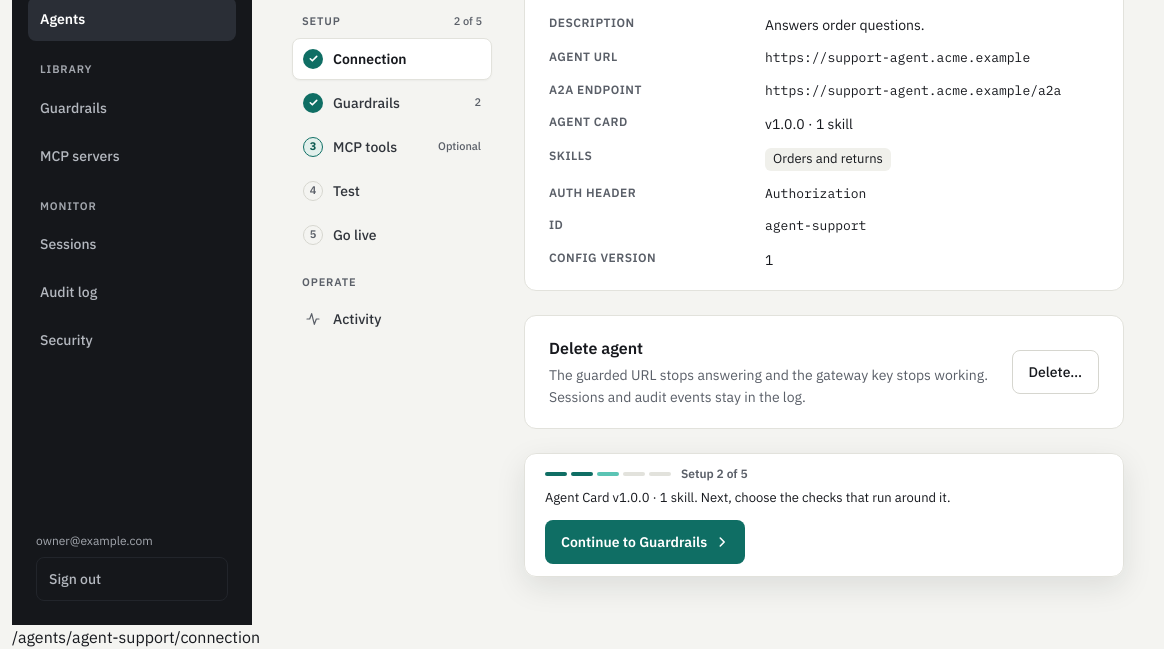
Test: Delete agent › says deleting is not available yet on a 405
(page scrolled)
Step 1. Click the button "Delete…" → (1055, 372), box [1012,350,1099,394]
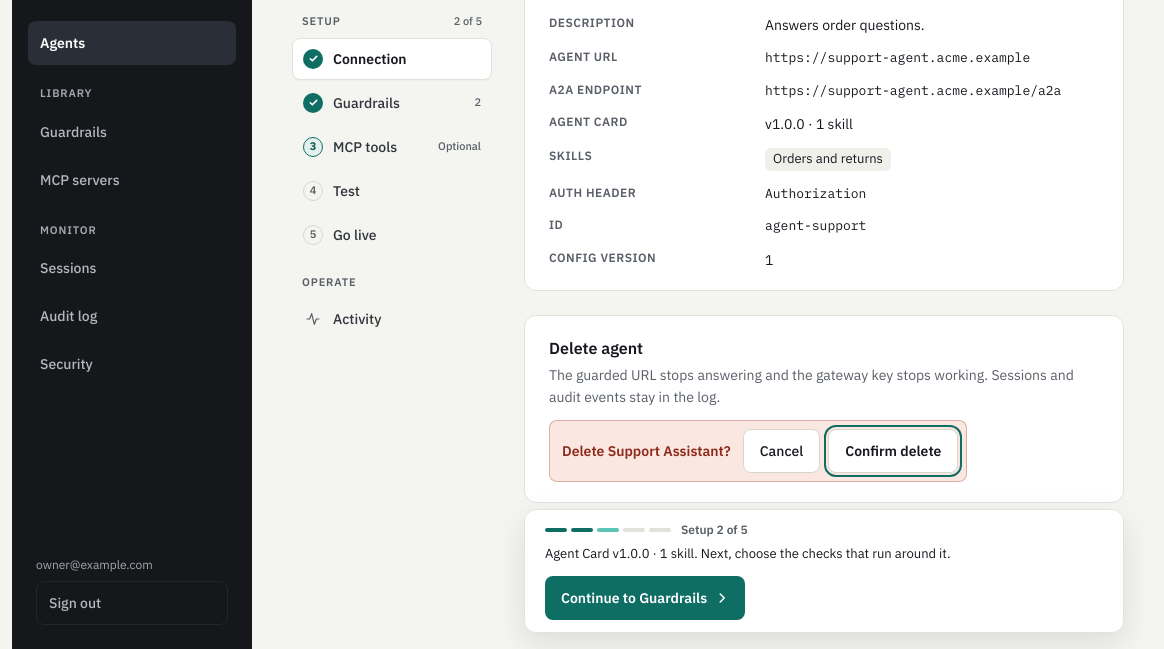
Step 2. Click the button "Confirm delete" → (893, 451), box [828,429,958,473]
(page scrolled)
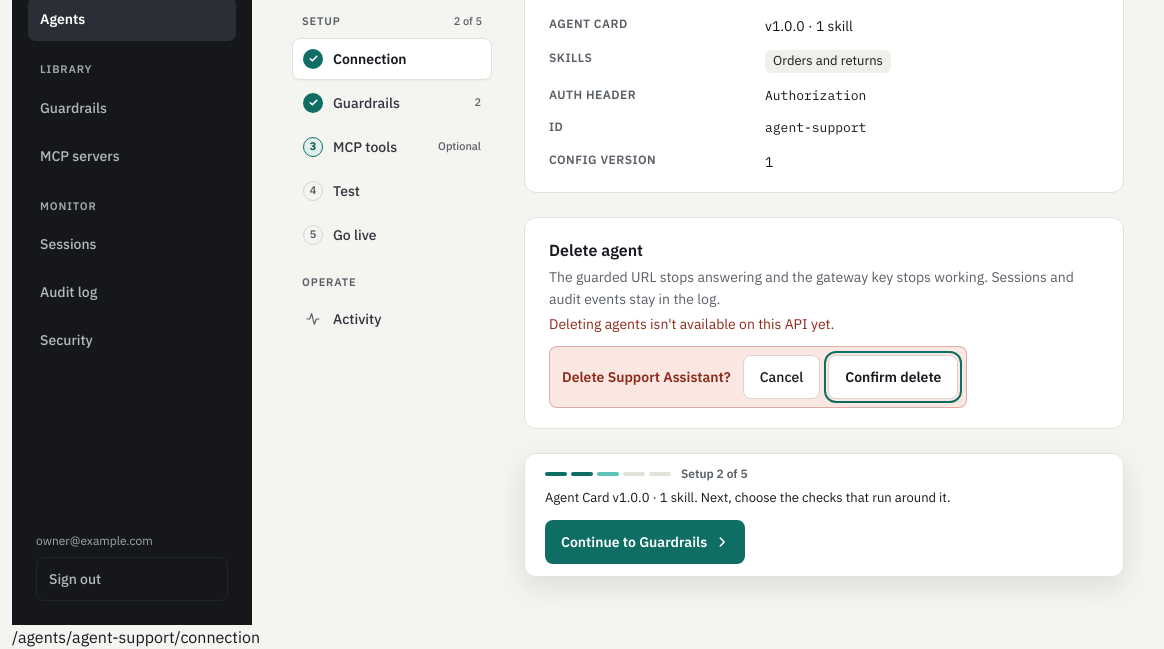
Expected: the text with test id "location" reads "/agents/agent-support/connection", [12,627,260,647]
Expected: the text "Deleting agents isn't available on this API yet." is shown, [549,315,834,333]
